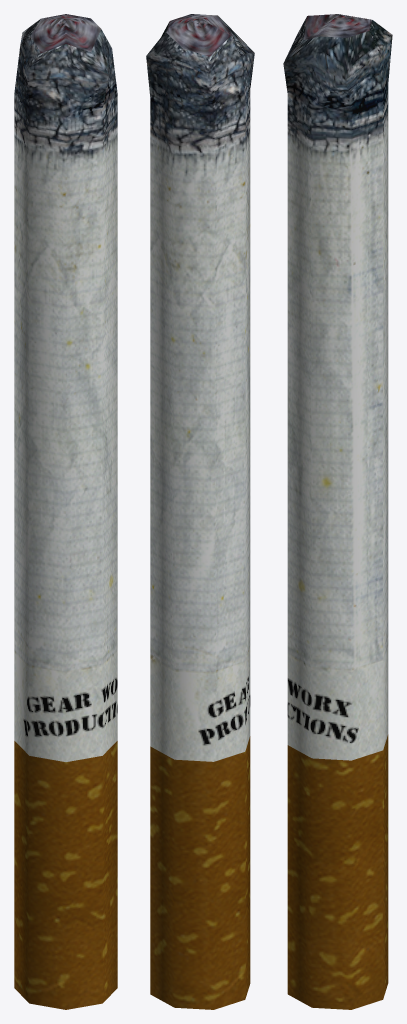
Rendered from cig.fbx.
3 renders of one model, left to right at view 1: azimuth 90°, elevation 25°; view 2: azimuth 150°, elevation 25°; view 3: azimuth 330°, elevation 25°, orthographic.
Visible parts, largest first — view 1: Cig; view 2: Cig; view 3: Cig.
Boxes of the visible parts, x1=… form: Cig: x1=14, y1=14, x2=117, y2=1009; Cig: x1=146, y1=14, x2=254, y2=1009; Cig: x1=283, y1=14, x2=392, y2=1009.
Size of the model in its own units: 0.0122 by 0.1256 by 0.0122.
